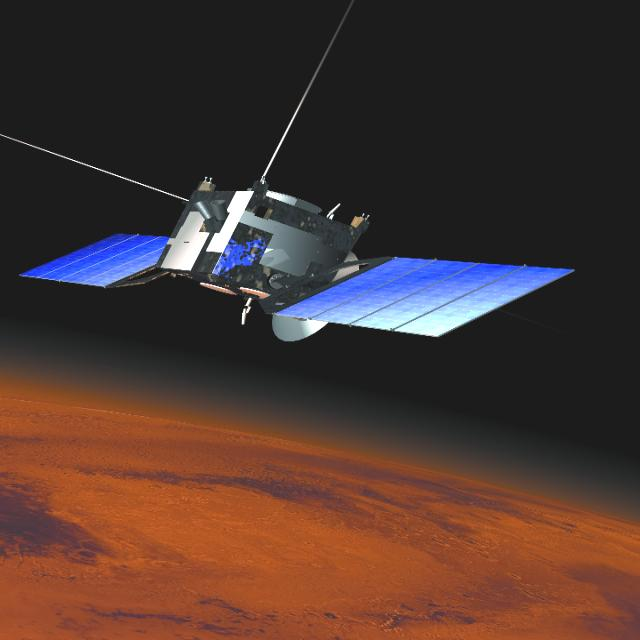satellite: (0, 0, 585, 396)
